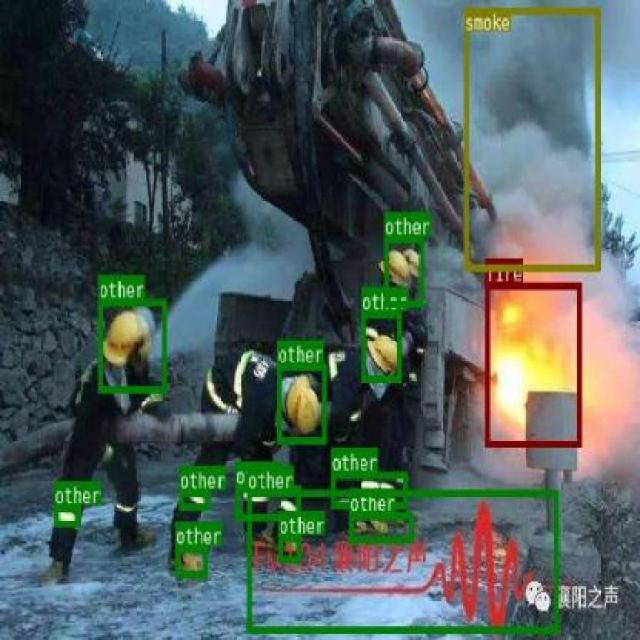fire: (484, 280, 581, 446)
smoke: (463, 7, 599, 270)
